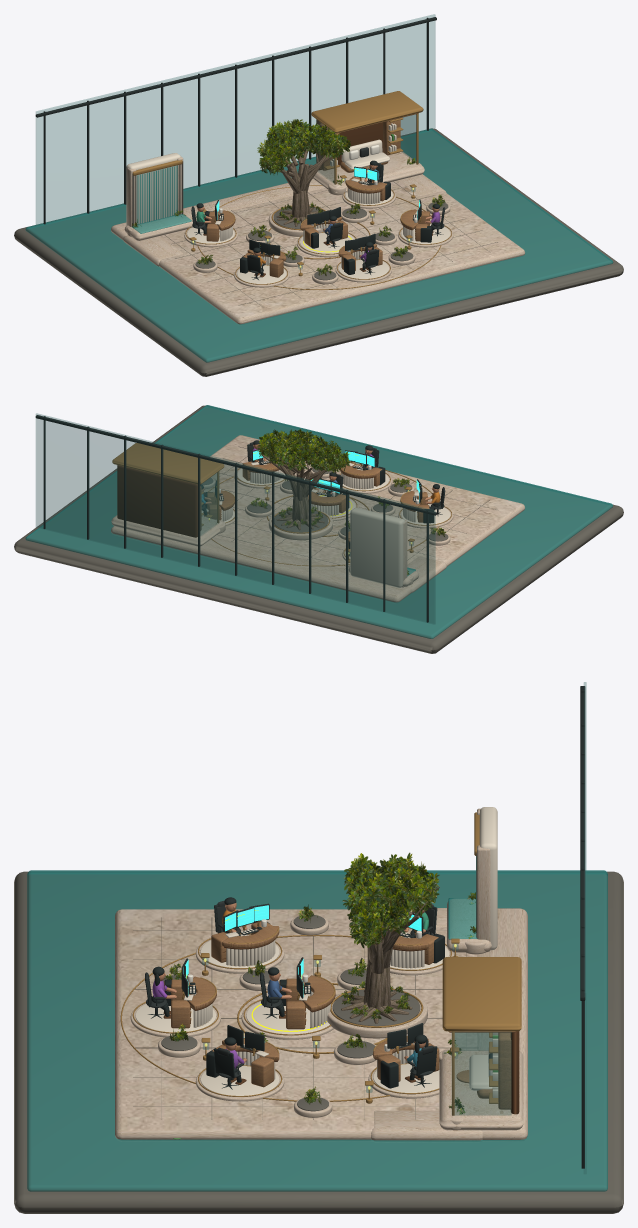
Rendered from garden-office-v3.glb.
3 renders of one model, top to bottom at view 1: azimuth 30°, elevation 25°; view 2: azimuth 150°, elevation 25°; view 3: azimuth 270°, elevation 25°, orthographic. The views are drawn at different scales.
Parts seen in each view (by area): view 1: RuntimeBatch_Limestone_joint, RuntimeBatch_Low_iron_architectural_glass, RuntimeBatch_Shallow_turquoise_water, RuntimeBatch_Limestone_warm, RuntimeBatch_Graphite, RuntimeBatch_Ivory_fluted_stone, RuntimeBatch_Champagne_bronze, RuntimeBatch_Ficus_cluster_atlas, RuntimeBatch_Quarter_sawn_oak, RuntimeBatch_Old_ficus_bark, RuntimeBatch_Limestone_soft_joint, RuntimeBatch_Dark_oak (+1 smaller); view 2: RuntimeBatch_Low_iron_architectural_glass, RuntimeBatch_Limestone_joint, RuntimeBatch_Shallow_turquoise_water, RuntimeBatch_Limestone_warm, RuntimeBatch_Graphite, RuntimeBatch_Ivory_fluted_stone, RuntimeBatch_Dark_oak, RuntimeBatch_Champagne_bronze, RuntimeBatch_Ficus_cluster_atlas, RuntimeBatch_Quarter_sawn_oak, RuntimeBatch_Old_ficus_bark, RuntimeBatch_Limestone_soft_joint (+2 smaller); view 3: RuntimeBatch_Limestone_joint, RuntimeBatch_Shallow_turquoise_water, RuntimeBatch_Limestone_warm, RuntimeBatch_Champagne_bronze, RuntimeBatch_Ivory_fluted_stone, RuntimeBatch_Ficus_cluster_atlas, RuntimeBatch_Graphite, RuntimeBatch_Quarter_sawn_oak, RuntimeBatch_Low_iron_architectural_glass, RuntimeBatch_Old_ficus_bark, RuntimeBatch_Limestone_soft_joint, RuntimeBatch_Dark_oak (+2 smaller).
Boxes of the visible parts, x1,y1,x2,y2 form: RuntimeBatch_Limestone_joint: [14, 128, 623, 376]; RuntimeBatch_Low_iron_architectural_glass: [36, 14, 435, 269]; RuntimeBatch_Shallow_turquoise_water: [25, 128, 613, 362]; RuntimeBatch_Limestone_warm: [111, 151, 525, 325]; RuntimeBatch_Graphite: [35, 17, 444, 279]; RuntimeBatch_Ivory_fluted_stone: [126, 123, 450, 283]; RuntimeBatch_Champagne_bronze: [132, 91, 451, 289]; RuntimeBatch_Ficus_cluster_atlas: [132, 119, 445, 275]; RuntimeBatch_Quarter_sawn_oak: [206, 113, 429, 277]; RuntimeBatch_Old_ficus_bark: [264, 145, 338, 226]; RuntimeBatch_Limestone_soft_joint: [164, 181, 497, 307]; RuntimeBatch_Dark_oak: [203, 119, 433, 277]; RuntimeBatch_Low_iron_architectural_glass: [36, 413, 435, 624]; RuntimeBatch_Limestone_joint: [14, 405, 623, 653]; RuntimeBatch_Shallow_turquoise_water: [25, 405, 612, 638]; RuntimeBatch_Limestone_warm: [111, 435, 524, 602]; RuntimeBatch_Graphite: [35, 415, 444, 622]; RuntimeBatch_Ivory_fluted_stone: [202, 461, 450, 587]; RuntimeBatch_Dark_oak: [117, 459, 432, 537]; RuntimeBatch_Champagne_bronze: [112, 443, 451, 566]; RuntimeBatch_Ficus_cluster_atlas: [250, 429, 446, 575]; RuntimeBatch_Quarter_sawn_oak: [117, 461, 429, 548]; RuntimeBatch_Old_ficus_bark: [262, 454, 327, 530]; RuntimeBatch_Limestone_soft_joint: [217, 446, 497, 569]; RuntimeBatch_Limestone_joint: [14, 853, 623, 1213]; RuntimeBatch_Shallow_turquoise_water: [27, 856, 607, 1191]; RuntimeBatch_Limestone_warm: [115, 808, 527, 1142]; RuntimeBatch_Champagne_bronze: [120, 812, 521, 1115]; RuntimeBatch_Ivory_fluted_stone: [135, 807, 498, 1097]; RuntimeBatch_Ficus_cluster_atlas: [164, 852, 476, 1114]; RuntimeBatch_Graphite: [145, 686, 585, 1168]; RuntimeBatch_Quarter_sawn_oak: [171, 921, 515, 1109]; RuntimeBatch_Low_iron_architectural_glass: [202, 682, 586, 1173]; RuntimeBatch_Old_ficus_bark: [341, 887, 439, 1023]; RuntimeBatch_Limestone_soft_joint: [133, 917, 466, 1119]; RuntimeBatch_Dark_oak: [163, 928, 519, 1114].
Size of the model in its own units: 29.2 by 8.87 by 22.8.
25 materials, 4 textured.
